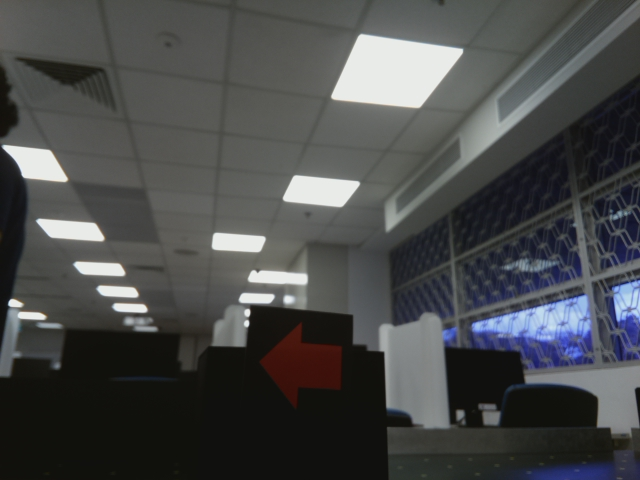left: (262, 321, 344, 414)
